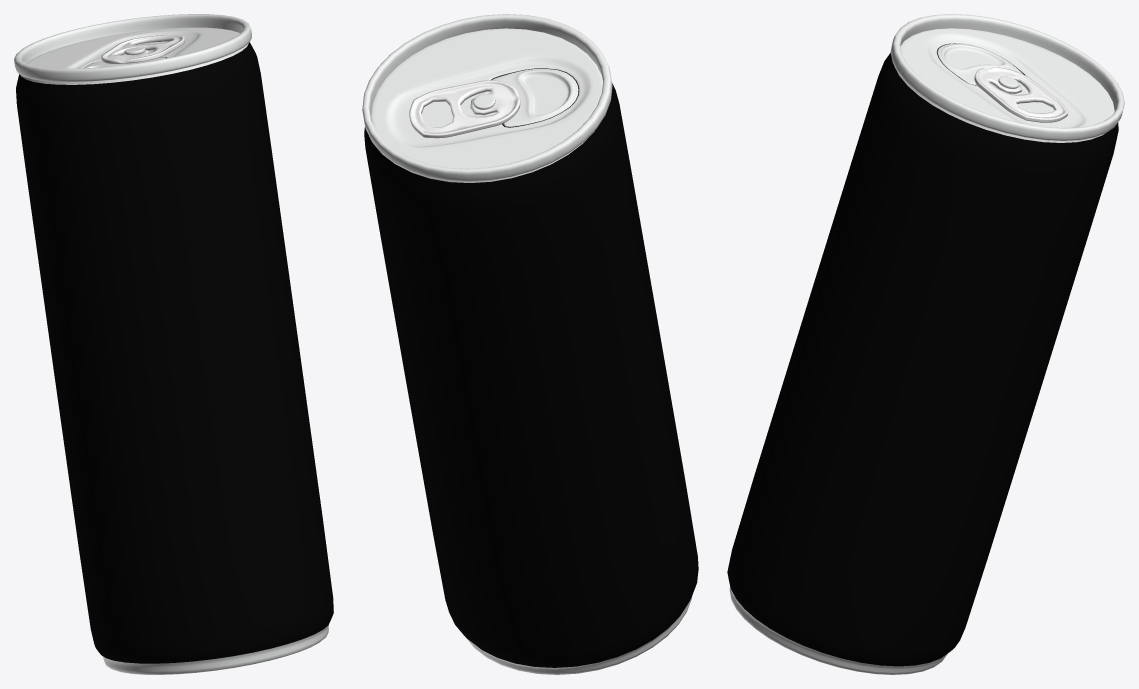
File: 3screen.glb
3 views of the same model, side by side, from view 1: azimuth 30°, elevation 25°; view 2: azimuth 150°, elevation 25°; view 3: azimuth 270°, elevation 25° (orthographic). The views are drawn at different scales.
Parts seen in each view (by area): view 1: aluminium can 250 ml.009; view 2: aluminium can 250 ml.009; view 3: aluminium can 250 ml.009.
Boxes of the visible parts, x1=… form: aluminium can 250 ml.009: x1=14, y1=14, x2=333, y2=674; aluminium can 250 ml.009: x1=362, y1=14, x2=698, y2=674; aluminium can 250 ml.009: x1=727, y1=14, x2=1124, y2=674.
Bounding box in the file's own units: 0.0594 × 0.1597 × 0.095.
Materials: 3 (2 with a texture image).
